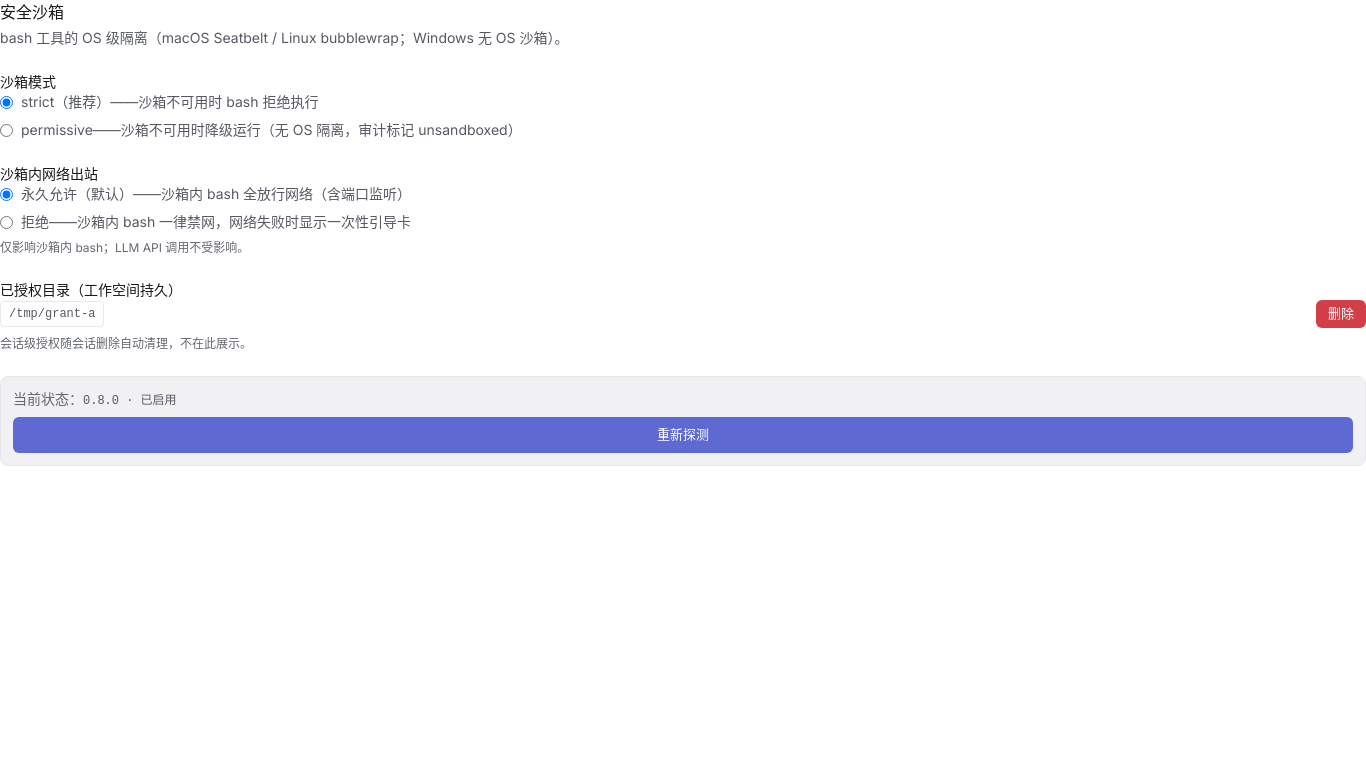
Test case: SandboxSettingsPanel：已授权目录 › 确认弹窗取消 → 不调 revokeWrite、授权保留
Expected: the text "/tmp/grant-a" is shown, [0,301,104,327]
Click the button "删除" at (1341, 314), box [1316,300,1365,328]
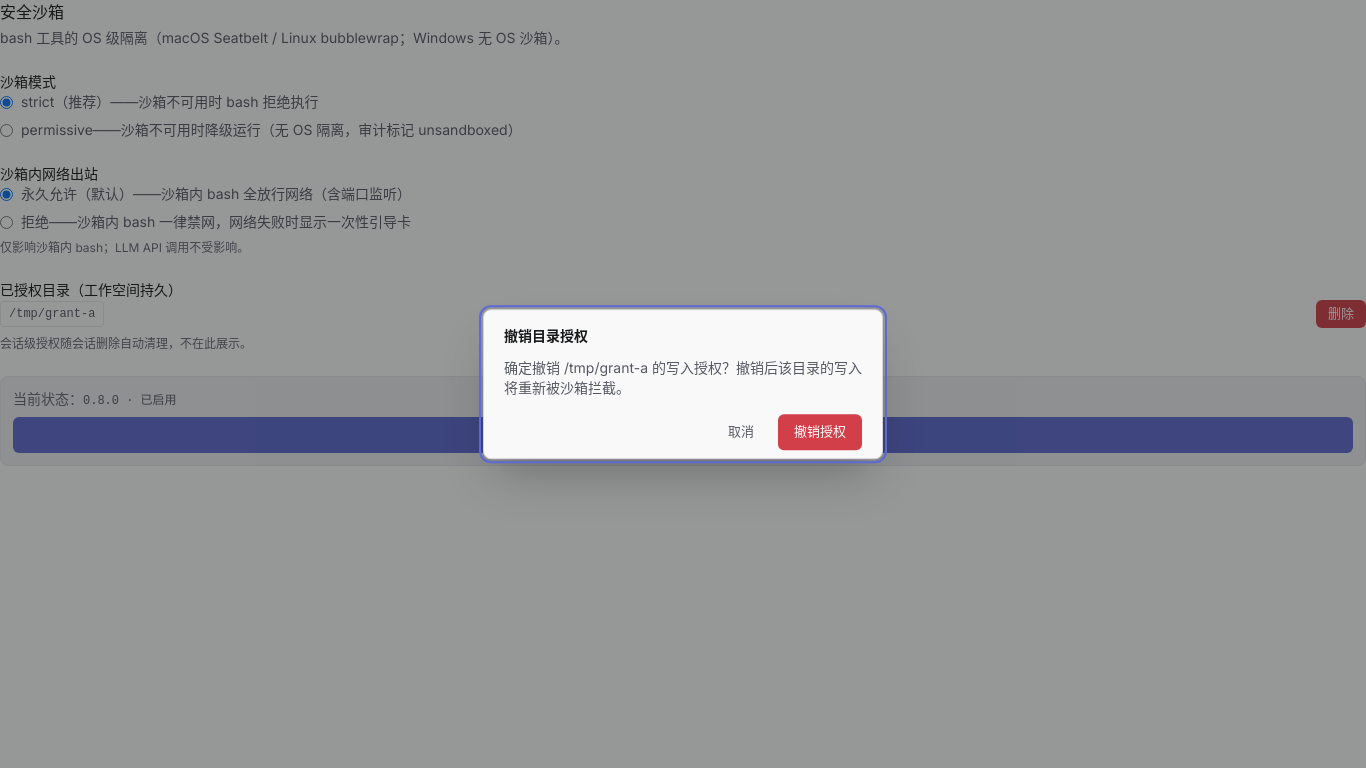
Click the button "取消" at (741, 432), box [712,414,770,450]
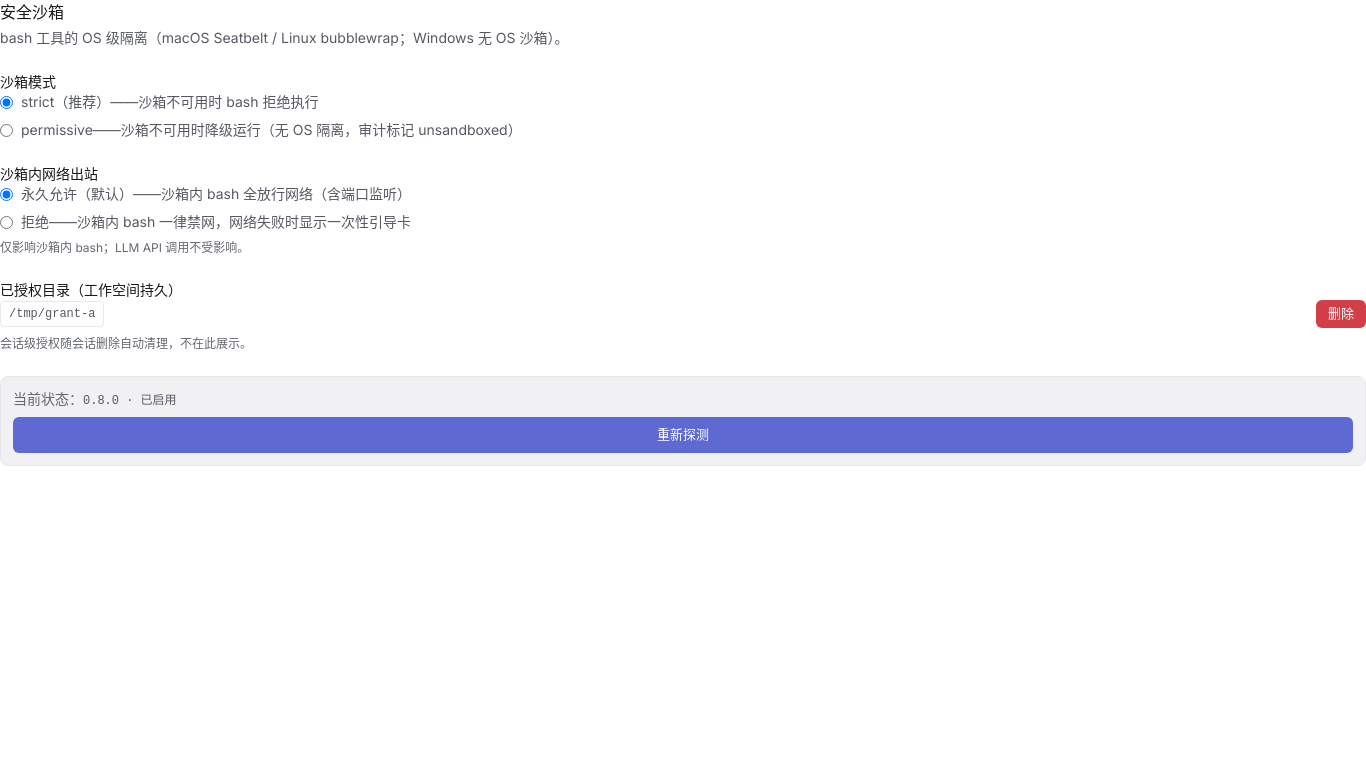
Expected: the text "/tmp/grant-a" is shown, [0,301,104,327]
Expected: the text "确定撤销" is gone
